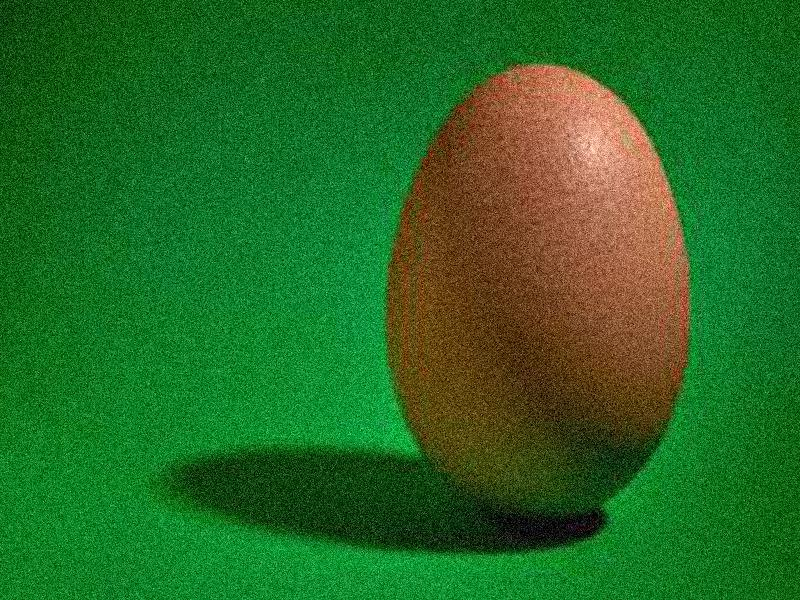Eggs: (386, 66, 691, 521)
